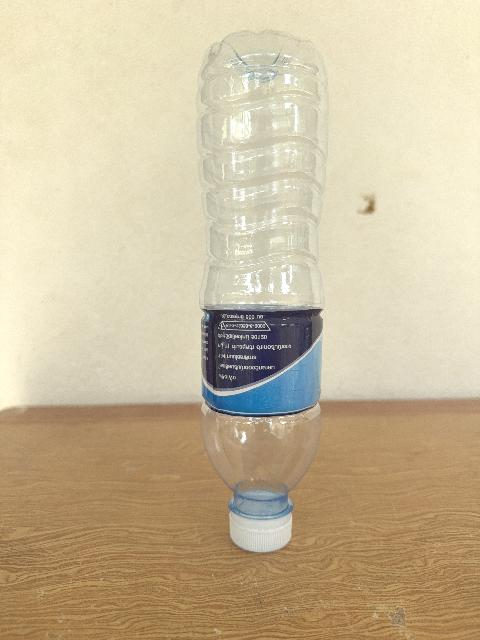bottle: (197, 31, 327, 551)
